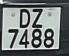4: (18, 29, 30, 49)
7: (7, 28, 20, 50)
8: (42, 27, 56, 50), (30, 28, 43, 50)
D: (18, 8, 33, 30)
Z: (30, 7, 45, 30)
